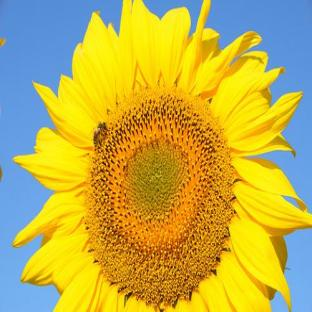sunflower: (12, 0, 312, 312)
